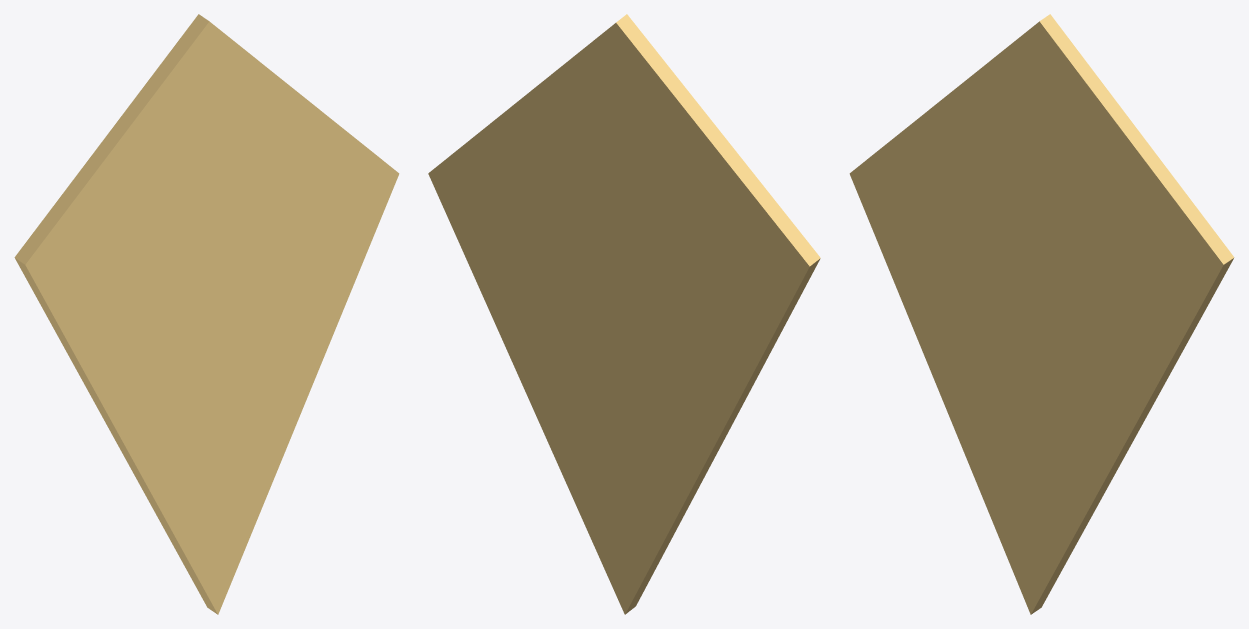
File: layang.glb
3 views of the same model, side by side, from view 1: azimuth 30°, elevation 25°; view 2: azimuth 150°, elevation 25°; view 3: azimuth 330°, elevation 25° (orthographic).
Visible parts, largest first — view 1: Plane; view 2: Plane; view 3: Plane.
Boxes of the visible parts, x1,y1,x2,y2 form: Plane: (14, 14, 399, 614); Plane: (428, 14, 820, 614); Plane: (849, 14, 1234, 614).
Bounding box in the file's own units: 2 × 3 × 0.1806.
